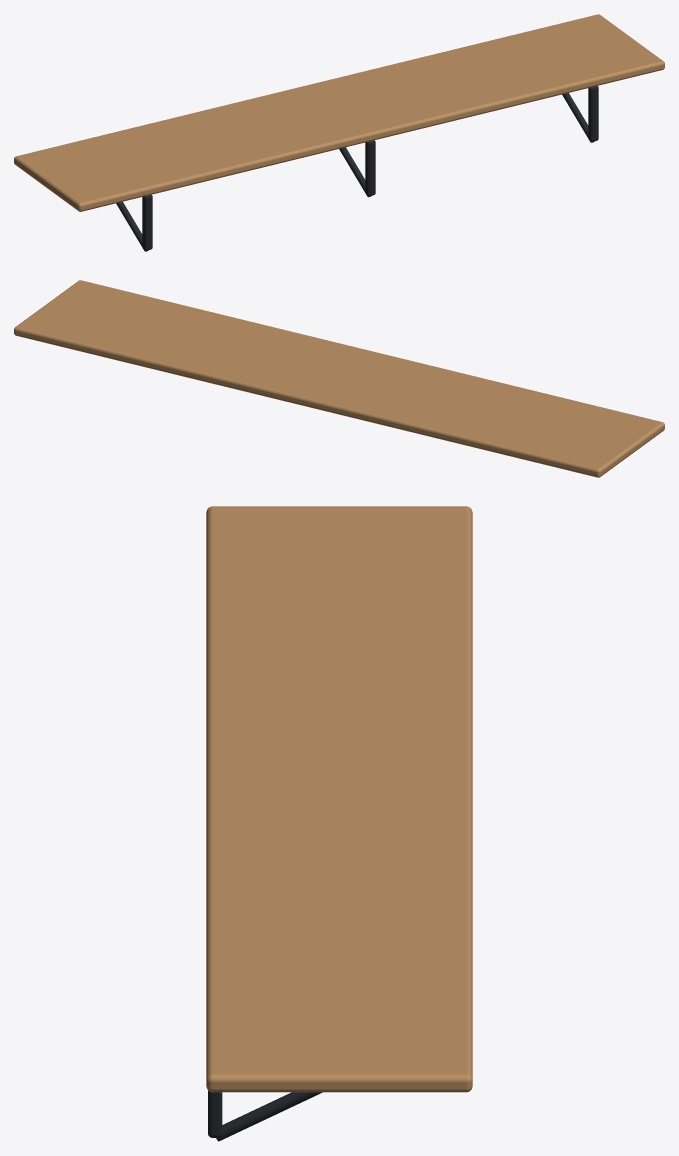
File: windowBar-2.glb
3 views of the same model, one above another, from view 1: azimuth 30°, elevation 25°; view 2: azimuth 150°, elevation 25°; view 3: azimuth 270°, elevation 25° (orthographic). The views are drawn at different scales.
Visible parts, largest first — view 1: windowBar:2:archviz; view 2: windowBar:2:archviz; view 3: windowBar:2:archviz.
Part boxes in pixels (x1=…): windowBar:2:archviz: x1=14, y1=14, x2=664, y2=251; windowBar:2:archviz: x1=14, y1=280, x2=664, y2=477; windowBar:2:archviz: x1=206, y1=506, x2=472, y2=1141.
Bounding box in the file's own units: 2.8 × 0.3024 × 0.55.
